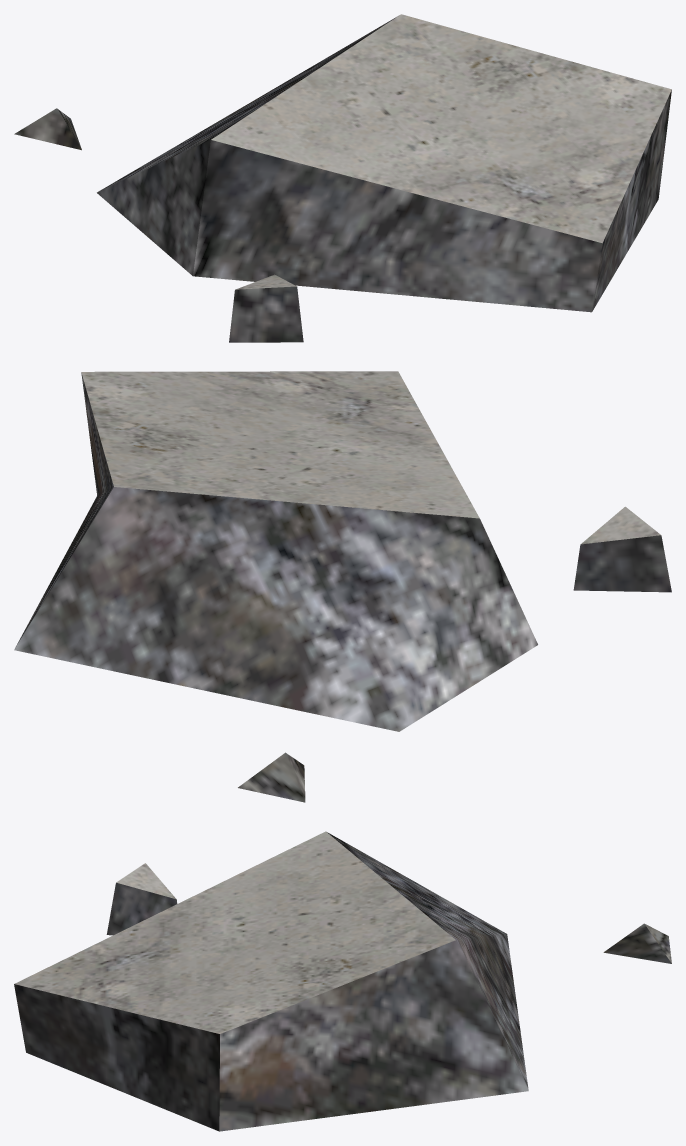
The model's file is beton part_1.FBX.
3 renders of one model, top to bottom at view 1: azimuth 30°, elevation 25°; view 2: azimuth 150°, elevation 25°; view 3: azimuth 270°, elevation 25°, orthographic. The views are drawn at different scales.
Visible parts, largest first — view 1: polySurface82; view 2: polySurface82; view 3: polySurface82.
Boxes of the visible parts, x1,y1,x2,y2 form: polySurface82: (14, 14, 671, 342); polySurface82: (14, 371, 671, 802); polySurface82: (14, 831, 671, 1131).
Bounding box in the file's own units: 12.07 × 3.15 × 14.59.
